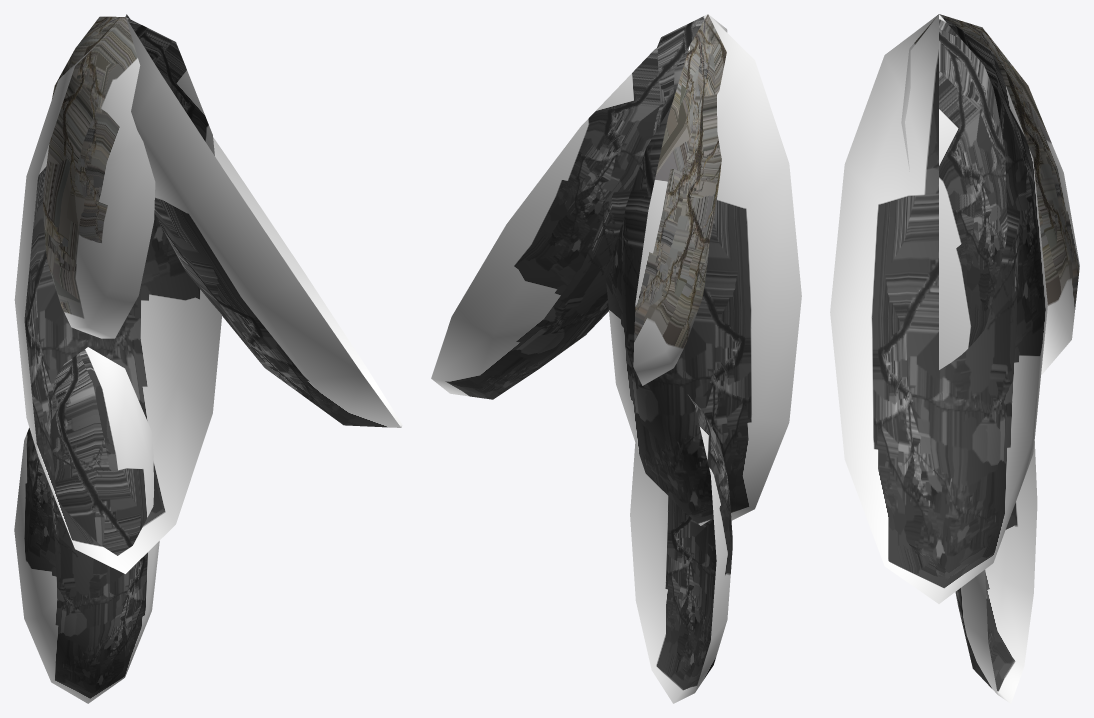
3 views of the same model, side by side, from view 1: azimuth 30°, elevation 25°; view 2: azimuth 150°, elevation 25°; view 3: azimuth 270°, elevation 25° (orthographic). The views are drawn at different scales.
Visible parts, largest first — view 1: root8; view 2: root8; view 3: root8.
Part boxes in pixels (x1,y1,x2,y2): root8: (14, 14, 402, 703); root8: (431, 14, 801, 703); root8: (830, 14, 1079, 703).
Bounding box in the file's own units: 65.01 × 117 × 38.51.
